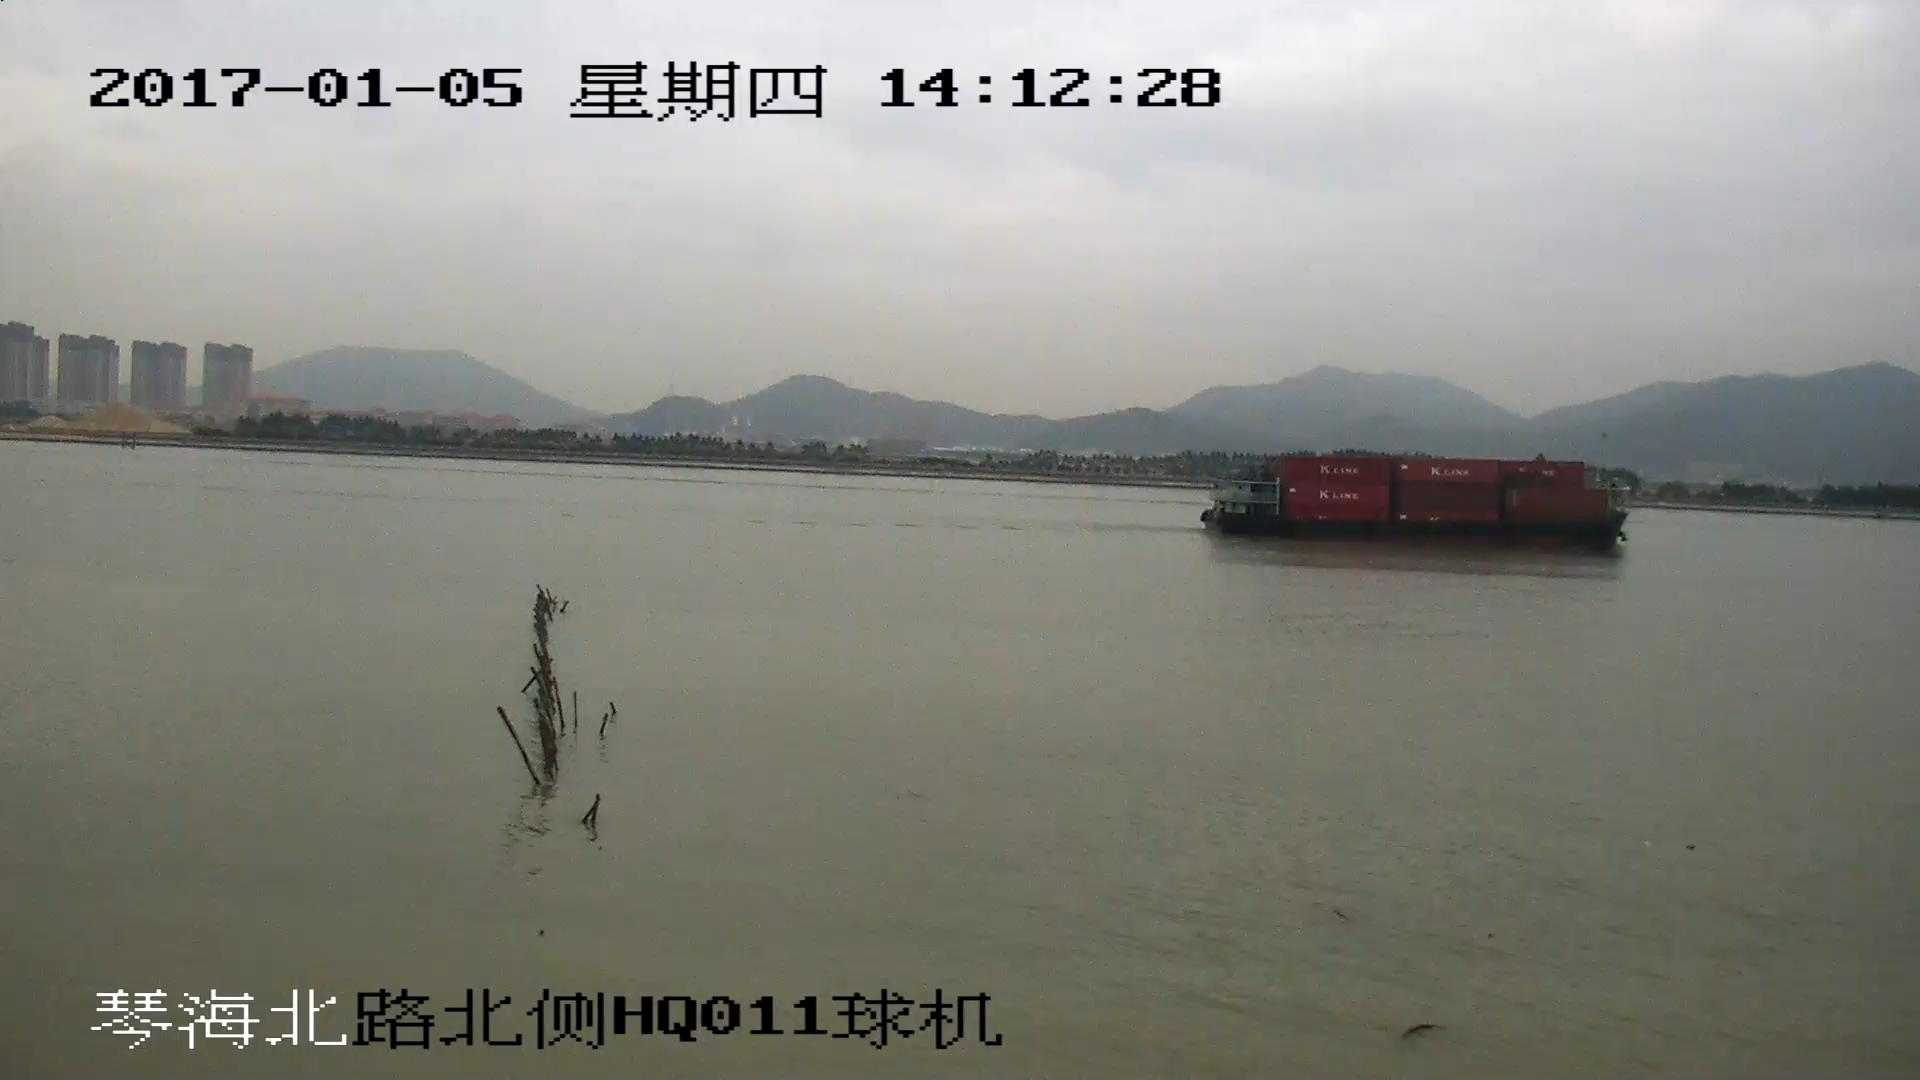container ship: (1198, 452, 1633, 555)
